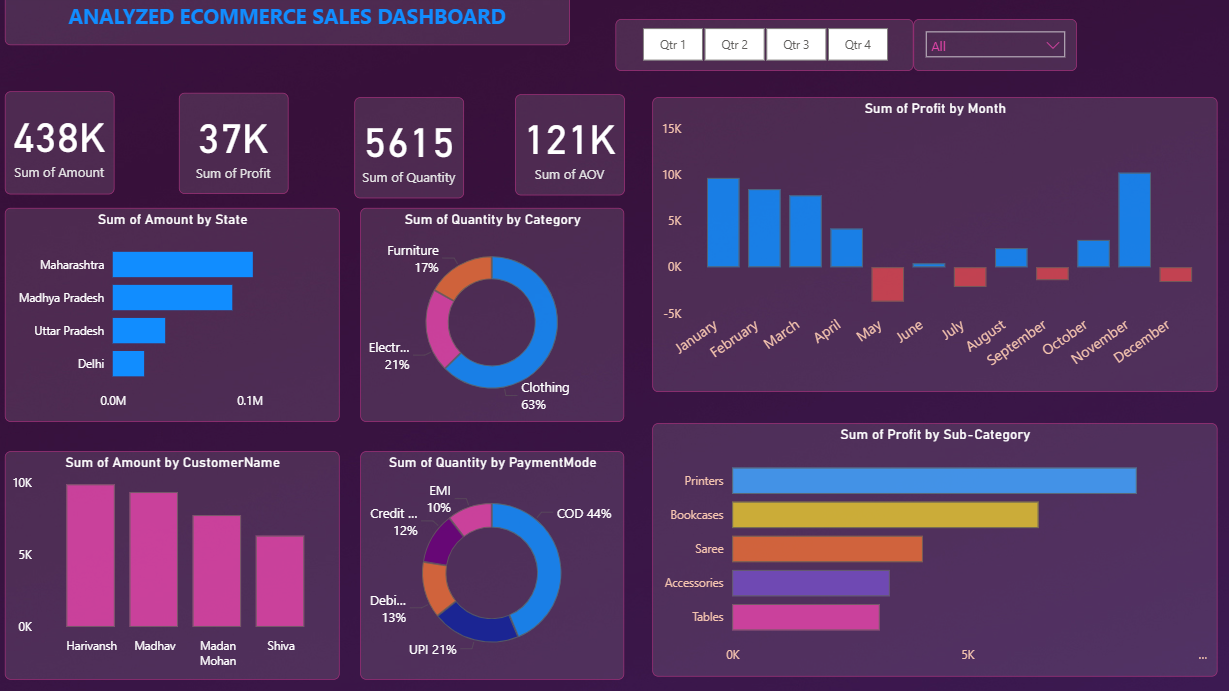

Layout of this report page (visuals, bound fields, positions):
{"tool":"powerbi","page":{"name":"Page 1","canvas":[1280,720],"ordinal":0},"visuals":[{"type":"textbox","box":[9.1,23.8,539.7,47.6],"z":0},{"type":"barChart","fields":{"Category":["Details.Sub-Category"],"Y":["Details.Profit"]},"box":[678.7,442.7,583.6,261.6],"z":1000},{"type":"donutChart","fields":{"Category":["Details.Category"],"Y":["Details.Quantity"]},"box":[376.8,221.4,272.6,221.4],"z":2000},{"type":"donutChart","fields":{"Category":["Details.PaymentMode","Details.Category"],"Y":["Details.Quantity"]},"box":[376.8,472,272.6,236],"z":3000},{"type":"card","fields":{"Values":["Details.Amount"]},"box":[9.1,100.6,113.4,106.1],"z":4000},{"type":"card","fields":{"Values":["Details.Quantity"]},"box":[369.5,106.1,113.4,104.3],"z":5000},{"type":"card","fields":{"Values":["Details.Profit"]},"box":[188.4,102.4,113.4,104.3],"z":6000},{"type":"card","fields":{"Values":["Details.AOV"]},"box":[536,104.3,113.4,104.3],"z":7000},{"type":"barChart","fields":{"Category":["Orders.State"],"Y":["Details.Amount"]},"box":[9.1,221.4,345.7,221.4],"z":8000},{"type":"columnChart","fields":{"Category":["Orders.CustomerName"],"Y":["Details.Amount"]},"box":[9,472,346,236],"z":9000},{"type":"slicer","fields":{"Values":["Orders.Order Date.Variation.Date Hierarchy.Quarter"]},"box":[881.7,14.6,252.4,76.8],"z":10000},{"type":"columnChart","fields":{"Category":["Orders.Order Date.Variation.Date Hierarchy.Month"],"Y":["Details.Profit"]},"box":[678,106.7,583.5,304.7],"z":11000},{"type":"slicer","fields":{"Values":["Orders.State"]},"box":[1141.5,16.5,133.5,76.8],"z":12000},{"type":"slicer","fields":{"Values":["Details.Category"]},"box":[556.1,14.6,322,73.2],"z":12001}]}

Visuals, with their boxes in screenshot pixels (x1, y1, x2, y2), scaled from the page's 1280x720 canvas onto the 1229x691 screenshot:
textbox: 9,23,527,69
barChart - Details.Sub-Category x Details.Profit: 652,425,1212,676
donutChart - Details.Category x Details.Quantity: 362,212,624,425
donutChart - Details.PaymentMode x Details.Category: 362,453,624,679
card - Details.Amount: 9,97,118,198
card - Details.Quantity: 355,102,464,202
card - Details.Profit: 181,98,290,198
card - Details.AOV: 515,100,624,200
barChart - Orders.State x Details.Amount: 9,212,341,425
columnChart - Orders.CustomerName x Details.Amount: 9,453,341,679
slicer - Orders.Order Date.Variation.Date Hierarchy.Quarter: 847,14,1089,88
columnChart - Orders.Order Date.Variation.Date Hierarchy.Month x Details.Profit: 651,102,1211,395
slicer - Orders.State: 1096,16,1224,90
slicer - Details.Category: 534,14,843,84
